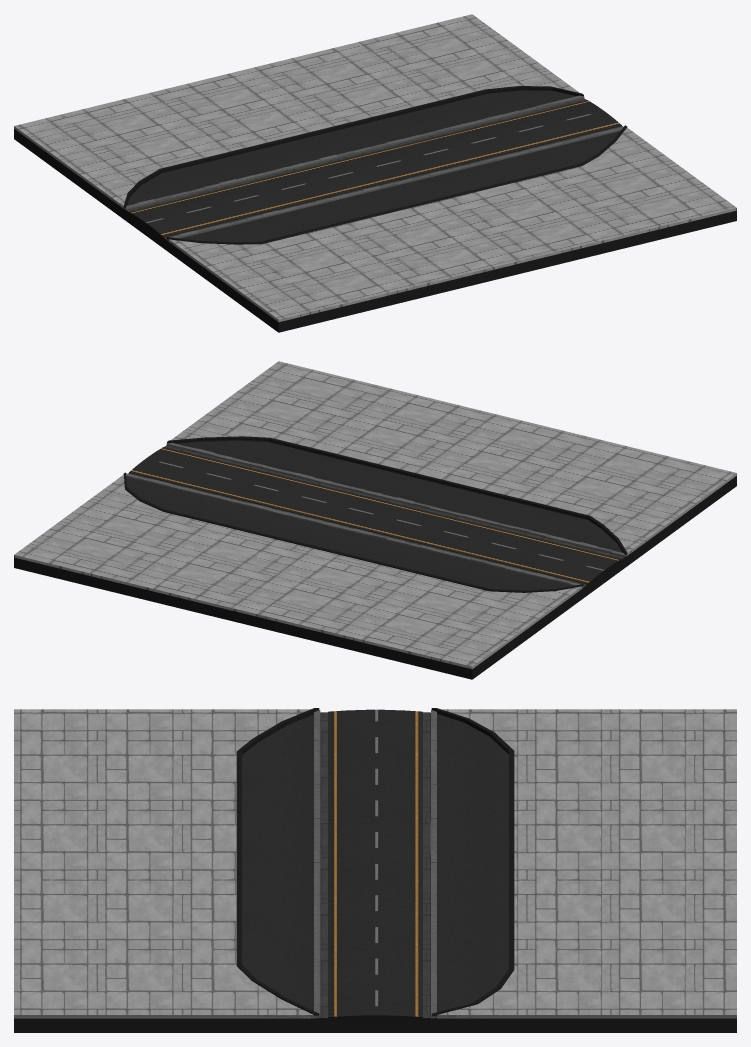
The model's file is Tile_Straight_ParkingLot.fbx.
3 renders of one model, top to bottom at view 1: azimuth 30°, elevation 25°; view 2: azimuth 150°, elevation 25°; view 3: azimuth 270°, elevation 25°, orthographic. The views are drawn at different scales.
Visible parts, largest first — view 1: Tile_Straight; view 2: Tile_Straight; view 3: Tile_Straight.
Part boxes in pixels (x1,y1,x2,y2): Tile_Straight: [14, 14, 736, 332]; Tile_Straight: [14, 361, 736, 679]; Tile_Straight: [14, 708, 736, 1032].
Bounding box in the file's own units: 1811 × 53.2 × 1811.
